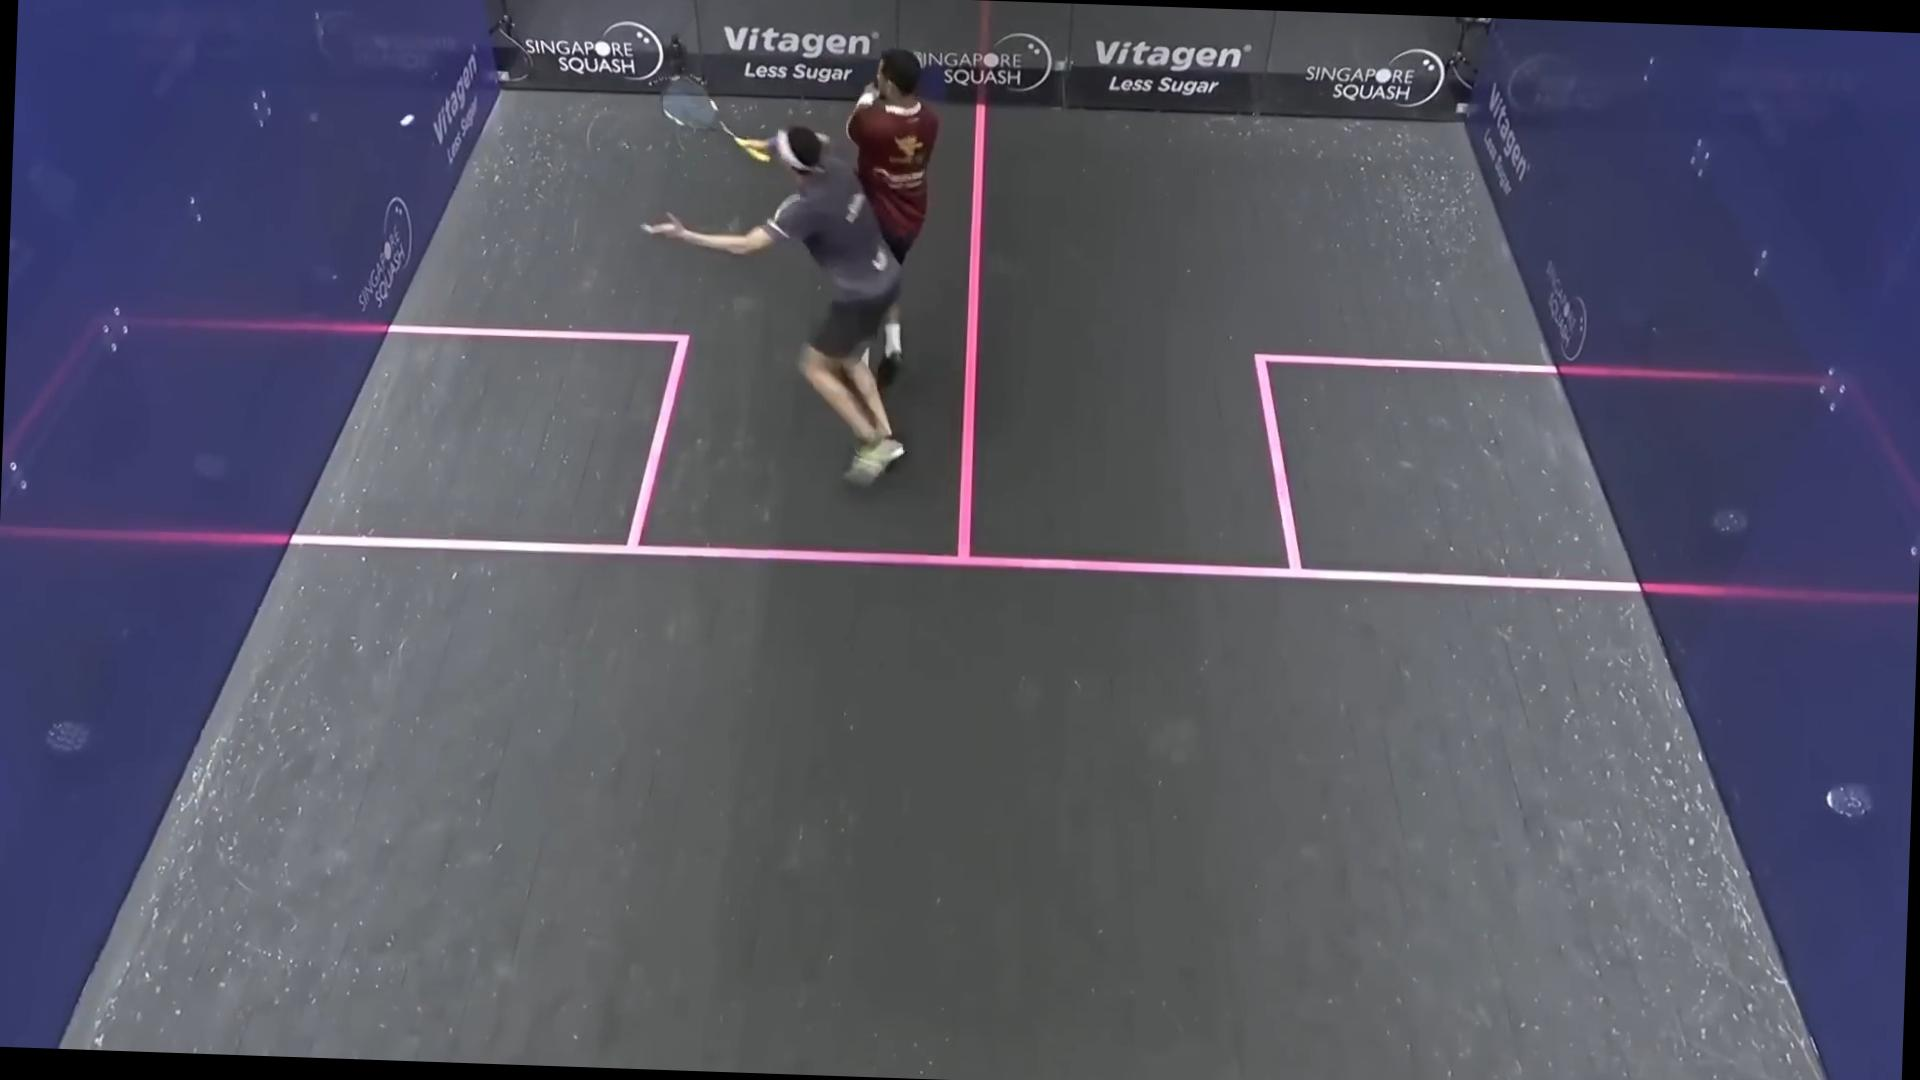Squash-Ball: (389, 98, 423, 142)
